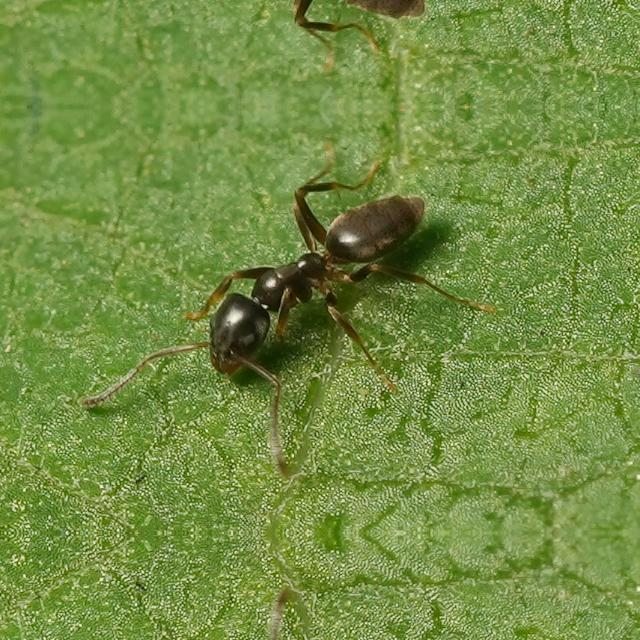Tapinoma: (128, 164, 466, 398), (127, 0, 466, 48)
